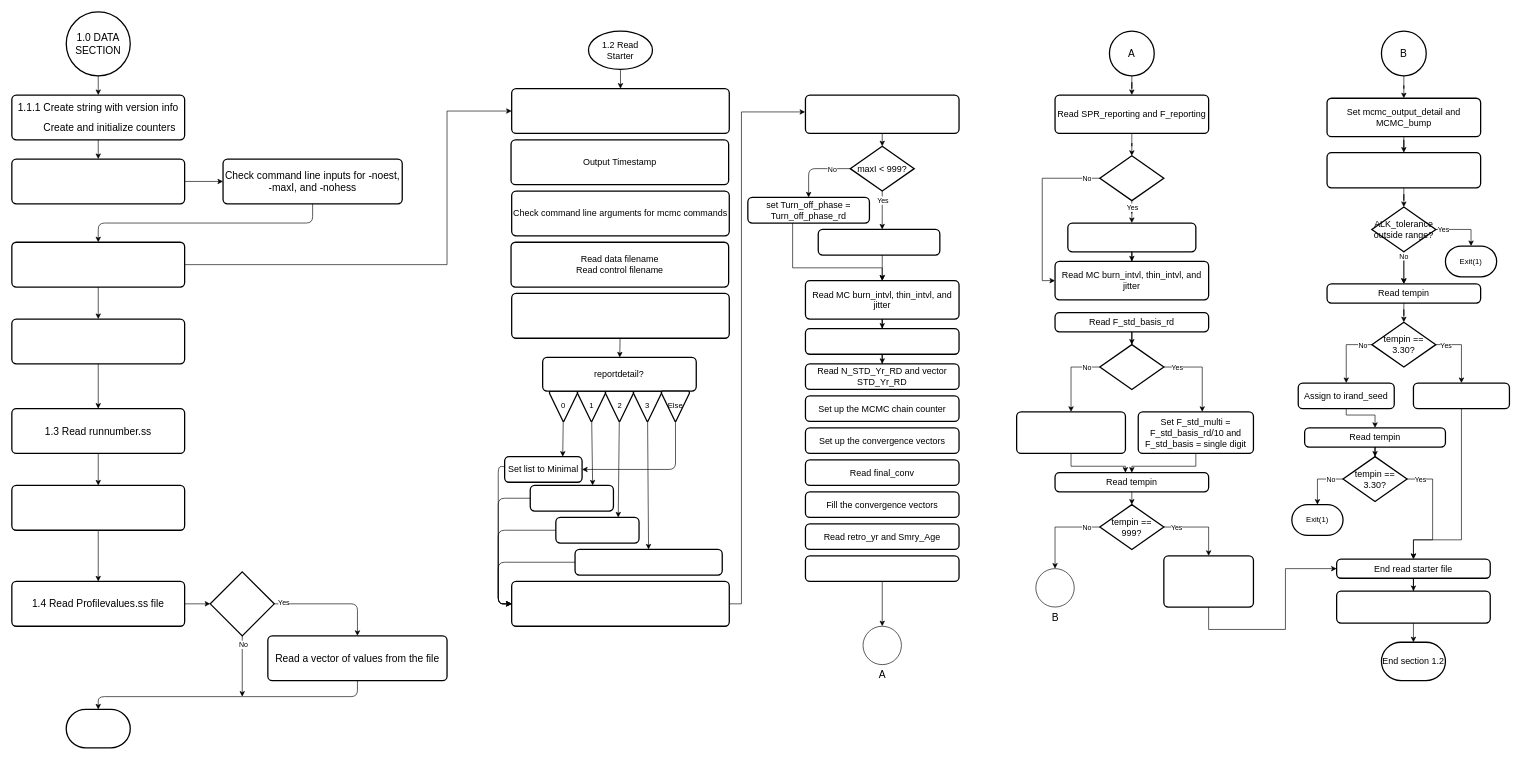
Some shapes in this 1521 by 759 pixel diagram are drawn without their labels. Here are the shapes that lost their labels. From the top down, the box of each, then its label:
(511, 88, 730, 134): Read Comments
(804, 94, 959, 134): Read SofBound, N_nudata, Turn_off_phase_rd
(11, 158, 185, 204): 1.1.2 Create GLOBAL arrays for parameter labels
(1099, 155, 1164, 201): F_reporting = (4 or 5)?
(1326, 152, 1481, 188): Read ALK_tolerance
(817, 228, 940, 255): set Turn_off_phase = maxI
(1067, 222, 1196, 252): Read range of ages F_reporting_ages_R
(11, 241, 185, 287): 1.2 Read the STARTER.SS file
(511, 292, 730, 339): Read switches readparfile, rundetail, and reportdetail.
(11, 318, 185, 364): 1.2.1 Set up a dummy datum for use when max phase = 0
(804, 328, 959, 355): Read STD_Yr_min and STD_Yr_max
(1099, 344, 1164, 390): F_std_basis_rd > 10?
(1412, 382, 1510, 409): irand_seed = -1
(1016, 411, 1126, 454): F_std_basis = F_std_basis_rd
(11, 484, 185, 531): 1.3.1 Increment runnumber and write to file
(529, 484, 614, 511): Set list to All
(555, 516, 639, 543): Set list to No growth
(574, 548, 723, 575): Read list of output report numbers
(804, 555, 959, 582): Read depletion_basis and depletion_level
(1163, 555, 1254, 607): This is a 3.24 file, Set readparfile = 0
(209, 571, 275, 636): File Exist?
(511, 580, 730, 627): Read docheckup, Do_ParmTrace, Do_CumReport, Do_all_priors
(1336, 590, 1491, 623): Set pi, neglog19, and NilNumbers
(65, 708, 131, 748): End
